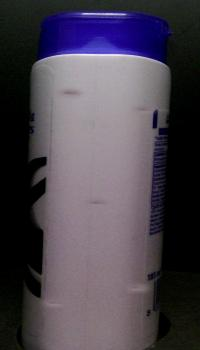dent_marginal: (81, 194, 122, 216), (44, 84, 89, 104), (109, 280, 156, 297), (34, 296, 67, 316), (127, 100, 160, 115)
